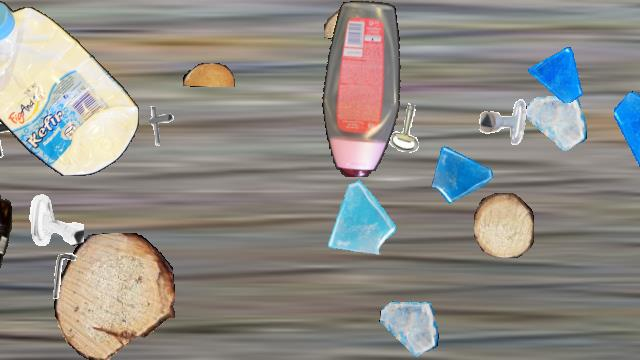glass: (317, 179, 397, 259), (429, 140, 495, 206), (526, 93, 586, 153), (379, 299, 439, 359), (528, 46, 584, 102), (614, 89, 640, 173)
metal: (26, 191, 84, 249), (381, 100, 437, 156), (39, 249, 93, 303), (478, 97, 530, 149), (0, 99, 37, 159), (137, 103, 181, 147)
plastic: (0, 1, 139, 175), (321, 1, 405, 177), (0, 189, 19, 359)
wood: (54, 233, 174, 359), (474, 193, 534, 257), (324, 9, 398, 41), (183, 63, 235, 87)
